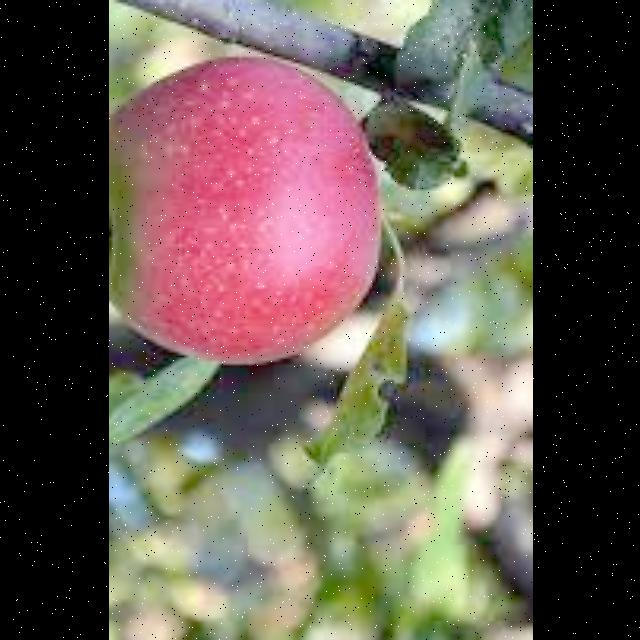Apel Segar: (108, 51, 392, 386)
